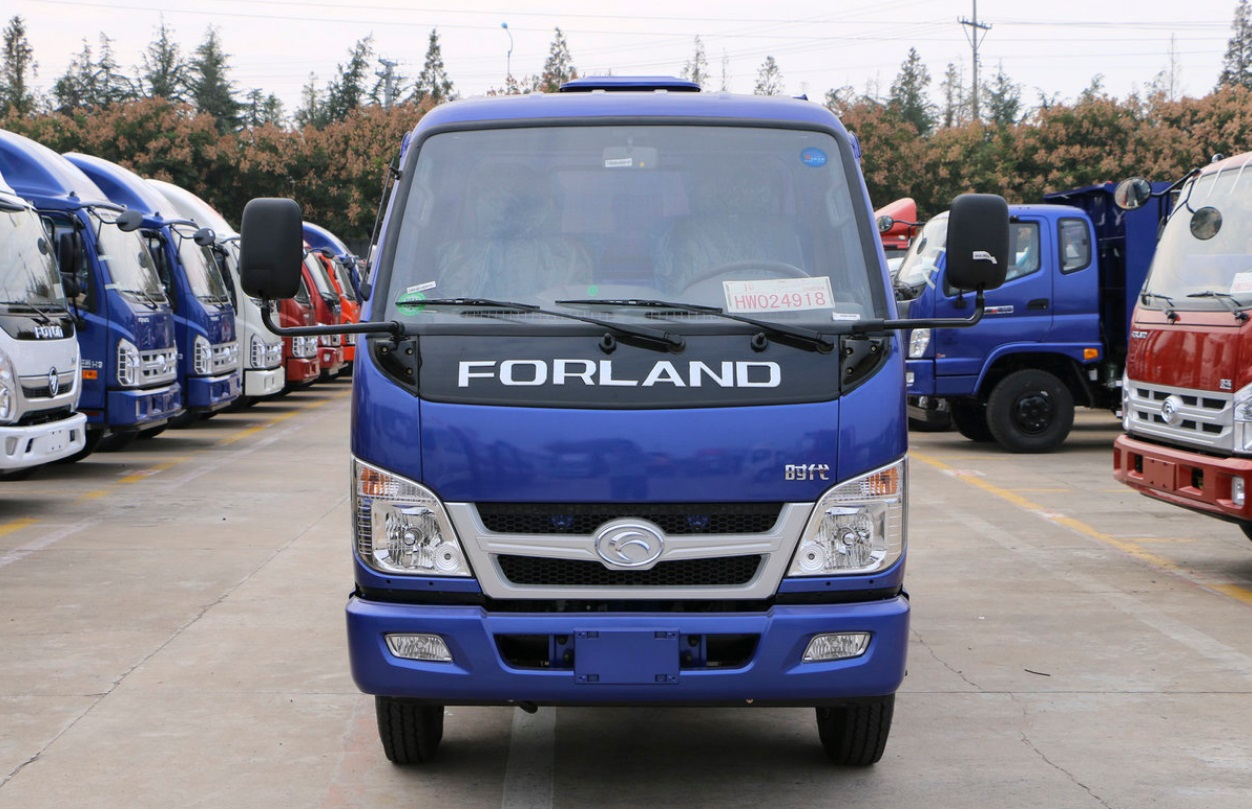truck: (233, 75, 1014, 775)
